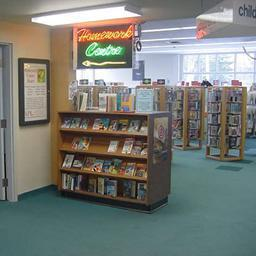Ventana: (181, 53, 253, 84)
